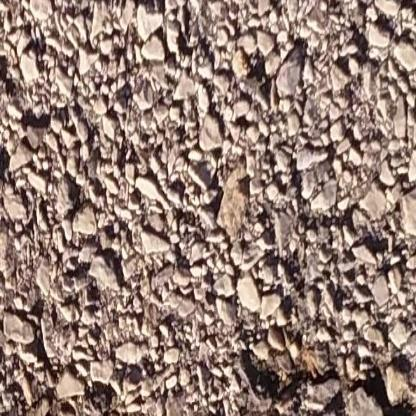Cracks: (240, 359, 416, 416), (15, 393, 144, 416)
